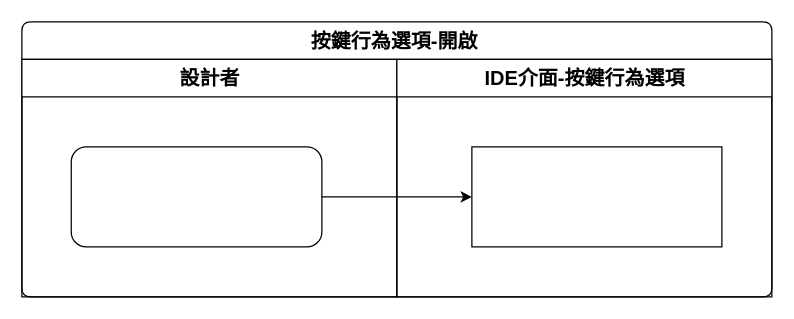
The diagram is 794 pixels wide and 319 high, and some of its shapes have lost their labels. The centre of each missing label's shape, as x and y in pixels:
"依表單設計類型顯示本單畫面" goes at point (596, 196).
"駐留<規格定義>.功能按鈕 點擊功能.設定，開啟本單" goes at point (196, 196).
